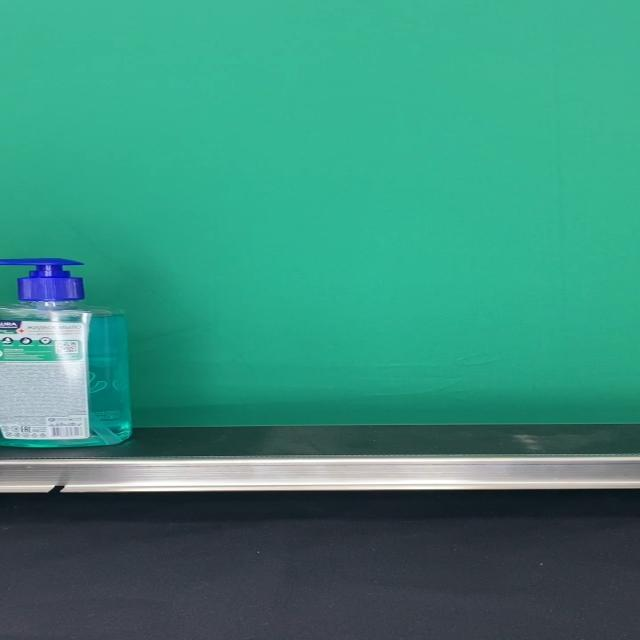Bottle: (0, 258, 133, 448)
Cap: (0, 258, 84, 301)
